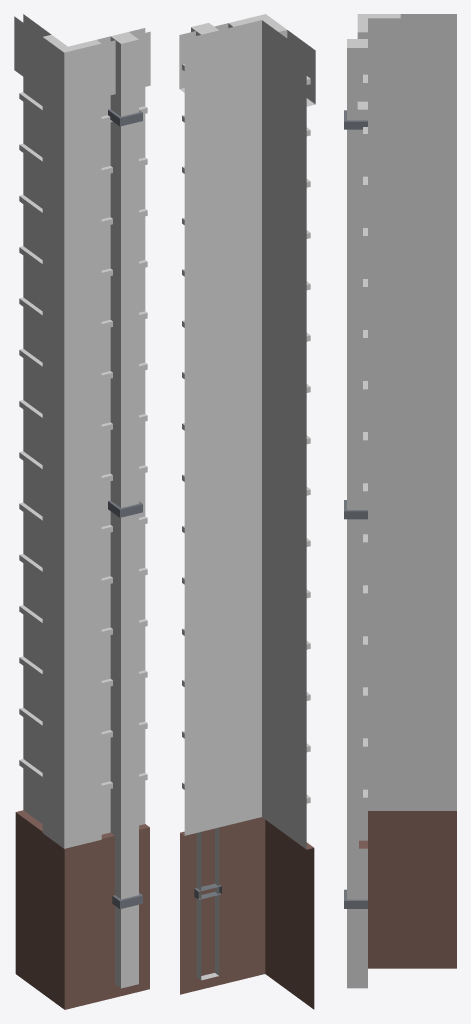
The model's file is base-c1_close.fbx.
3 renders of one model, left to right at view 1: azimuth 30°, elevation 25°; view 2: azimuth 210°, elevation 25°; view 3: azimuth 270°, elevation 25°, orthographic.
Visible parts, largest first — view 1: a2000/600/base-c1_close; view 2: a2000/600/base-c1_close; view 3: a2000/600/base-c1_close.
Boxes of the visible parts, x1,y1,x2,y2 form: a2000/600/base-c1_close: (14,14,150,1009); a2000/600/base-c1_close: (179,14,315,1009); a2000/600/base-c1_close: (344,14,456,988).
Size of the model in its own units: 0.335 by 3.55 by 0.38.
